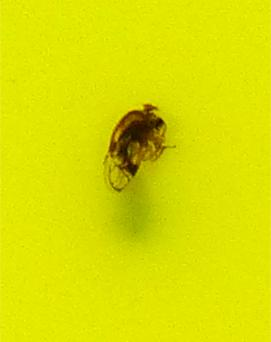Hemiptera: (100, 100, 171, 242)
